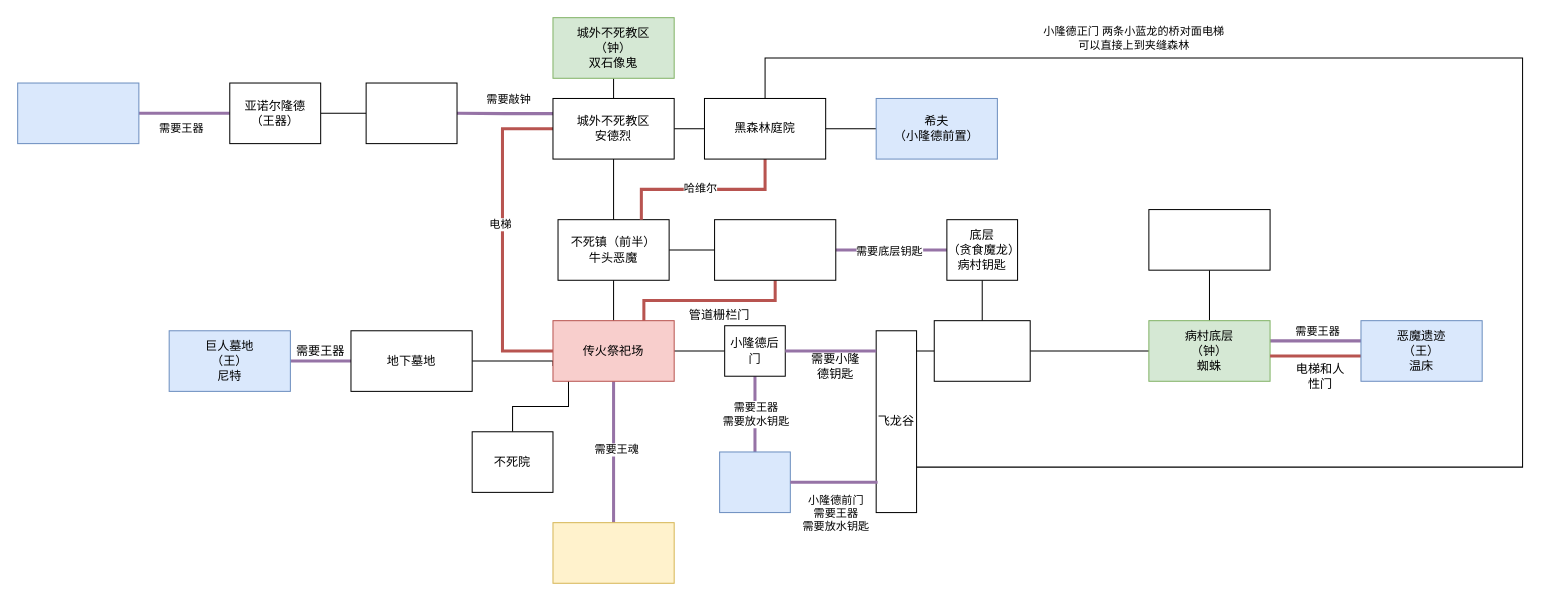
Image size: 1541x601. Some labels were removed from this diagram. The box of each missing label's shape, as (x1, y1, x2, y2) in pixels:
不死镇（后半） （一羊两狗） 底层钥匙: (714, 219, 836, 280)
公爵书库 （王） 白龙: (17, 82, 139, 144)
初始火炉 end 葛温: (552, 522, 674, 583)
塞恩古城: (365, 82, 457, 144)
大树洞&灰烬湖: (1148, 209, 1270, 270)
小隆德四王 （王）: (719, 451, 790, 513)
病村 小隆德钥匙: (933, 320, 1030, 381)
